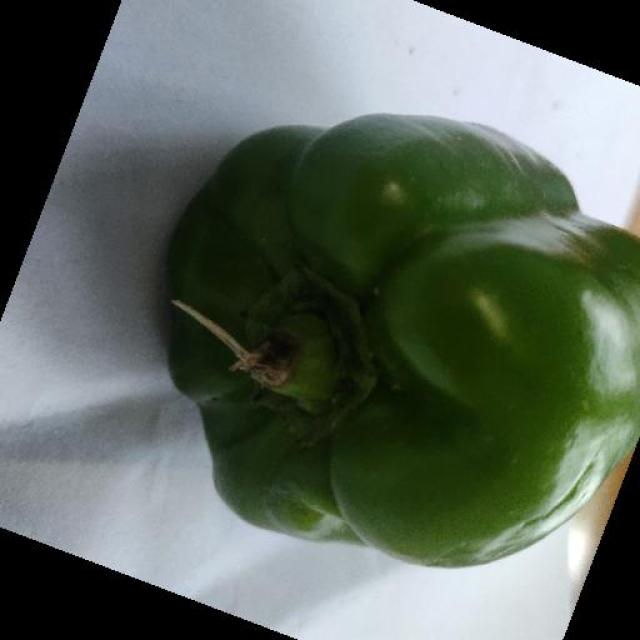Fresh_Capsicum: (177, 108, 628, 550)
